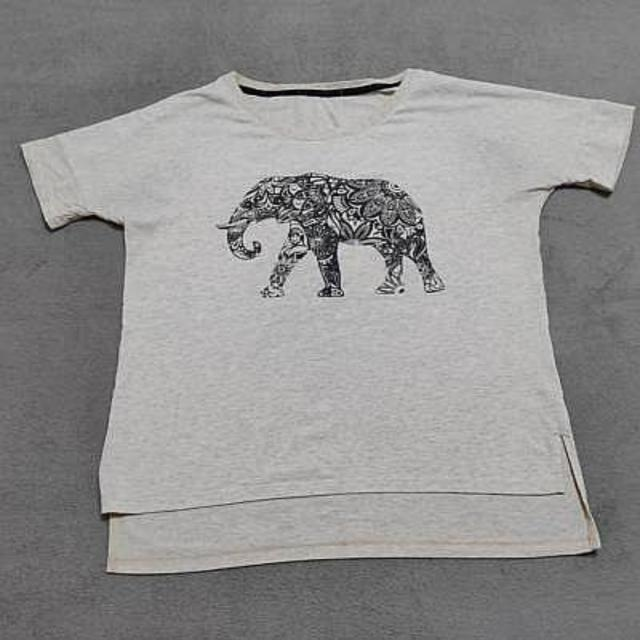T_SHIRT: (14, 65, 640, 578)
